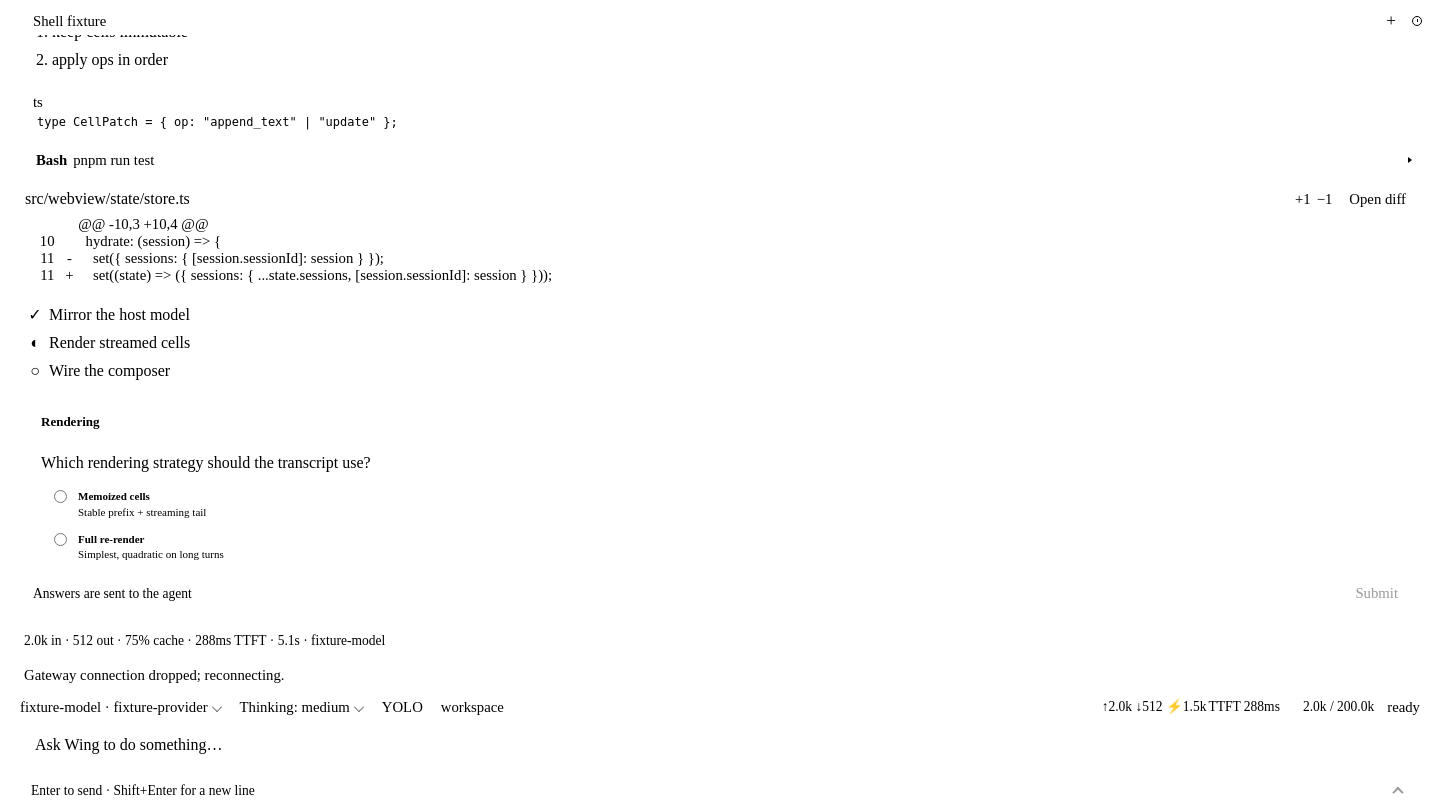
Test: status area › round-trips a ping with the injected clock (deterministic)
This screenshot has width=1440, height=810.
(page scrolled)
Click the button with test id "ping-button". click: {"x": 1404, "y": 707}
box: [1379,699,1428,715]
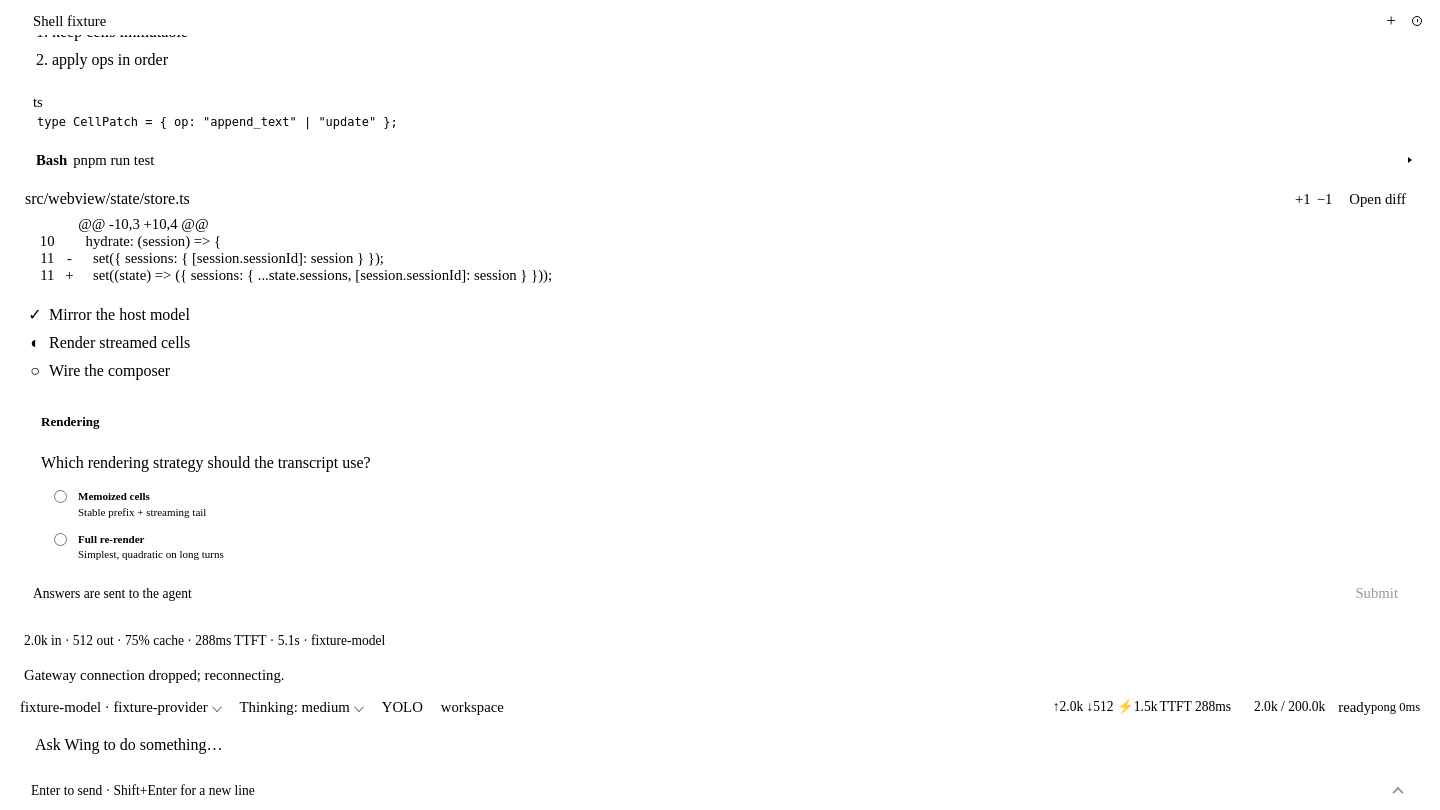
expect the message with test id "bridge-status" reads "ready": met, box [1338,698,1371,714]
expect the text with test id "ping-rtt" reads "pong 0ms": met, box [1371,700,1420,714]
